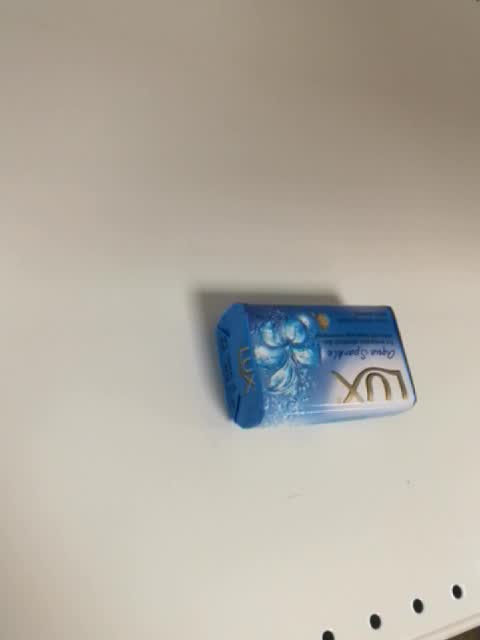soap: (214, 301, 417, 431)
